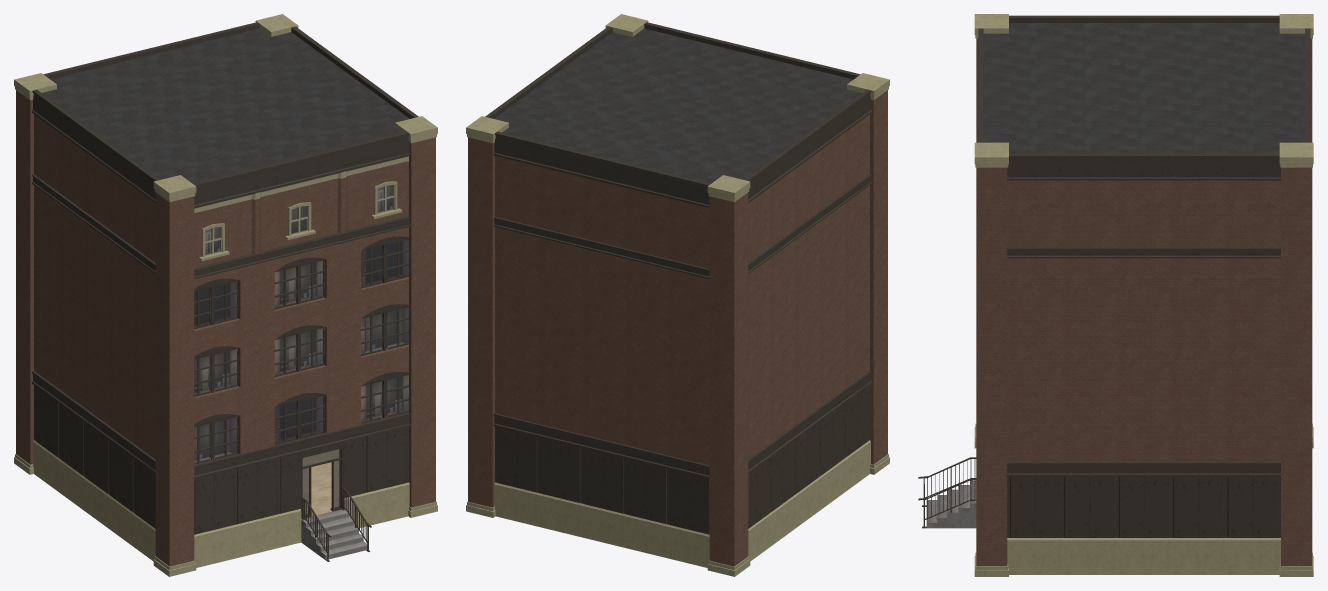
The model's file is building_small_1.glb.
3 renders of one model, left to right at view 1: azimuth 30°, elevation 25°; view 2: azimuth 150°, elevation 25°; view 3: azimuth 270°, elevation 25°, orthographic. The views are drawn at different scales.
Parts seen in each view (by area): view 1: Building_Small_1; view 2: Building_Small_1; view 3: Building_Small_1.
Part boxes in pixels (box(x1,y1,x2,y2)): Building_Small_1: box(14, 14, 437, 576); Building_Small_1: box(466, 14, 889, 576); Building_Small_1: box(918, 14, 1313, 576).
Size of the model in its own units: 12.46 by 17.03 by 14.54.
10 materials, 9 textured.
